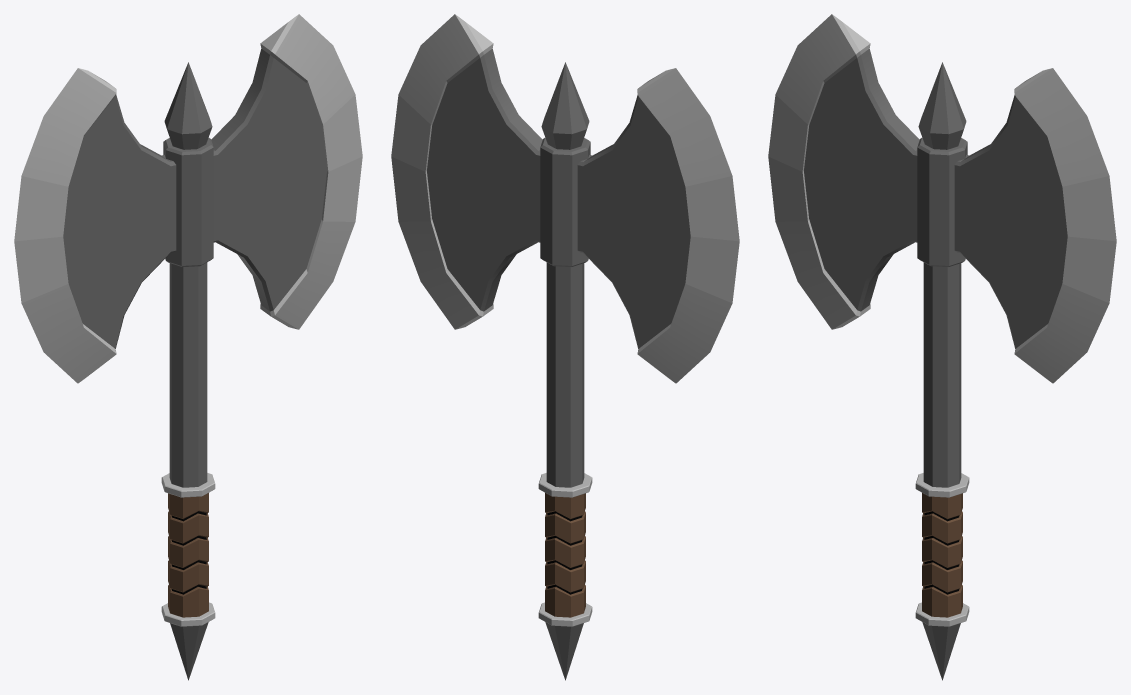
Rendered from Axe_2.fbx.
The picture shows the model from 3 angles, left to right: view 1: azimuth 30°, elevation 25°; view 2: azimuth 150°, elevation 25°; view 3: azimuth 330°, elevation 25°; orthographic projection.
Visible parts, largest first — view 1: pSphere2, pCylinder5; view 2: pSphere2, pCylinder5; view 3: pSphere2, pCylinder5.
Boxes of the visible parts, <box> form: pSphere2: <box>14,14,362,383</box>; pCylinder5: <box>161,62,215,680</box>; pSphere2: <box>391,14,739,383</box>; pCylinder5: <box>538,62,592,680</box>; pSphere2: <box>768,14,1116,383</box>; pCylinder5: <box>915,62,969,680</box>.
Size of the model in its own units: 2.45 by 4.29 by 0.3365.
